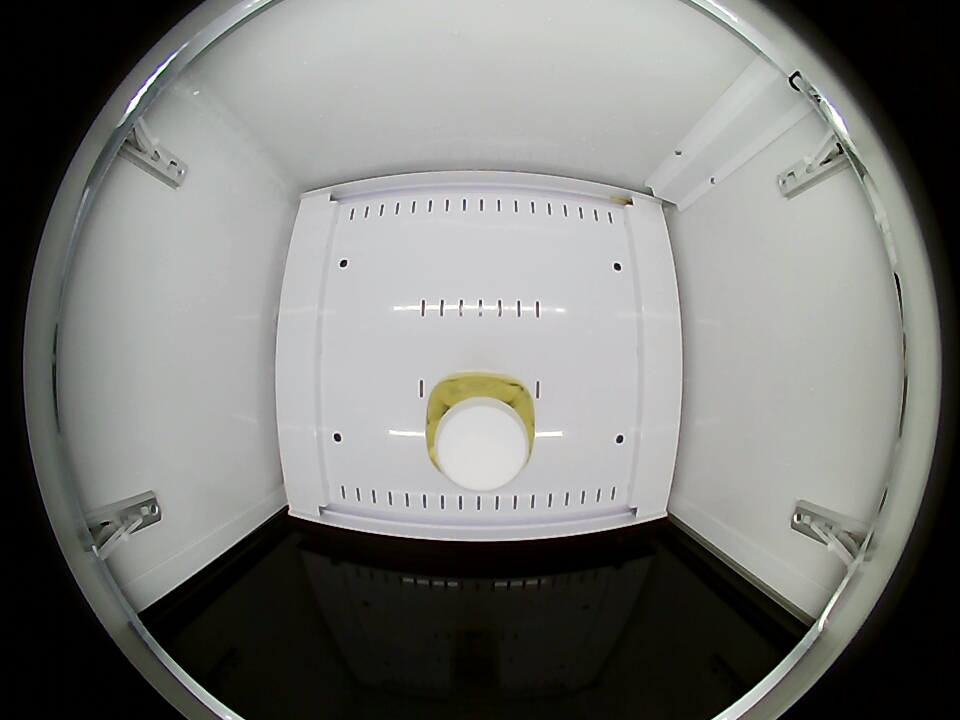chapai2: (425, 373, 536, 492)
